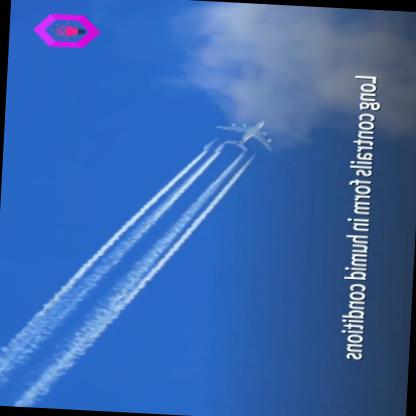plane: (204, 111, 283, 157)
